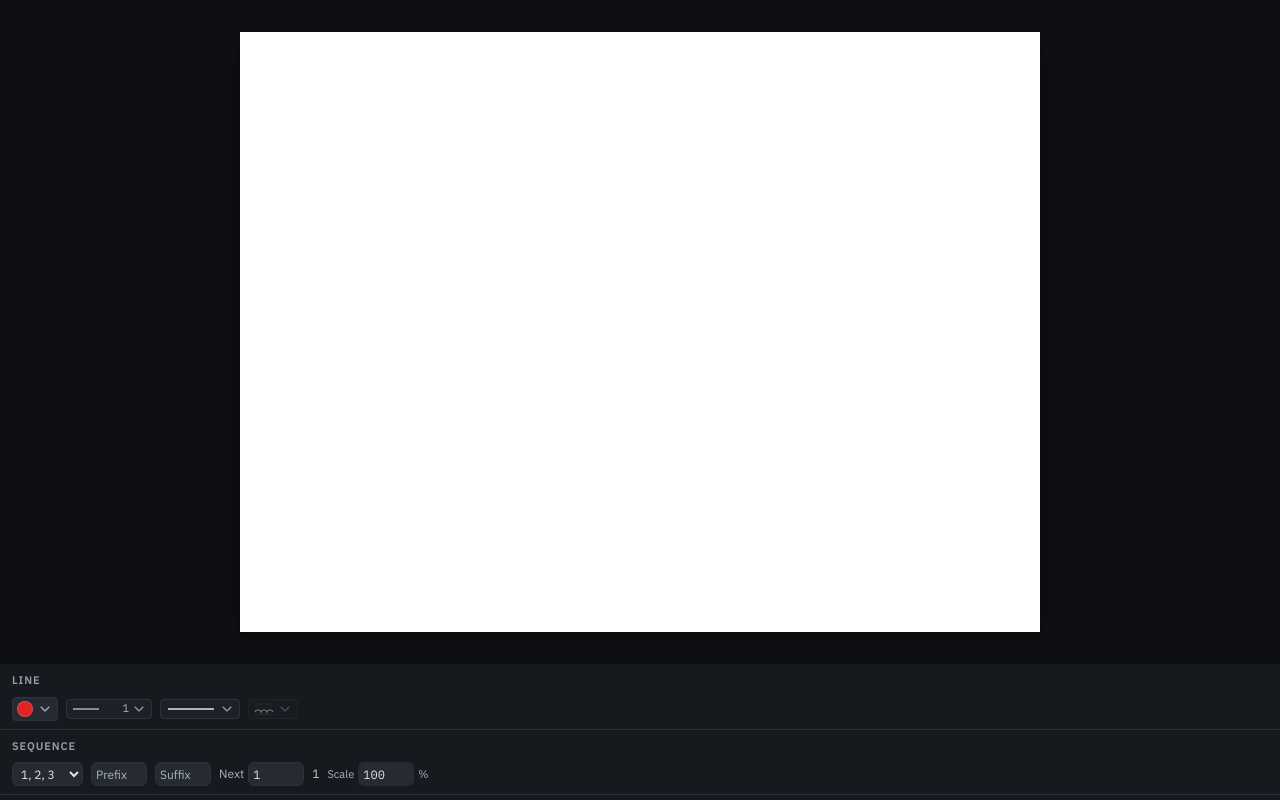
it: Secuencias numeradas de marcadores (ADR-0094) › la barra define formato, prefijo, sufijo y siguiente número, y el marcador los usa
Step 1. Select "A, B, C" in the dropdown with test id "ribbon-sequence-format" → x=48, y=774, box [12,762,83,786]
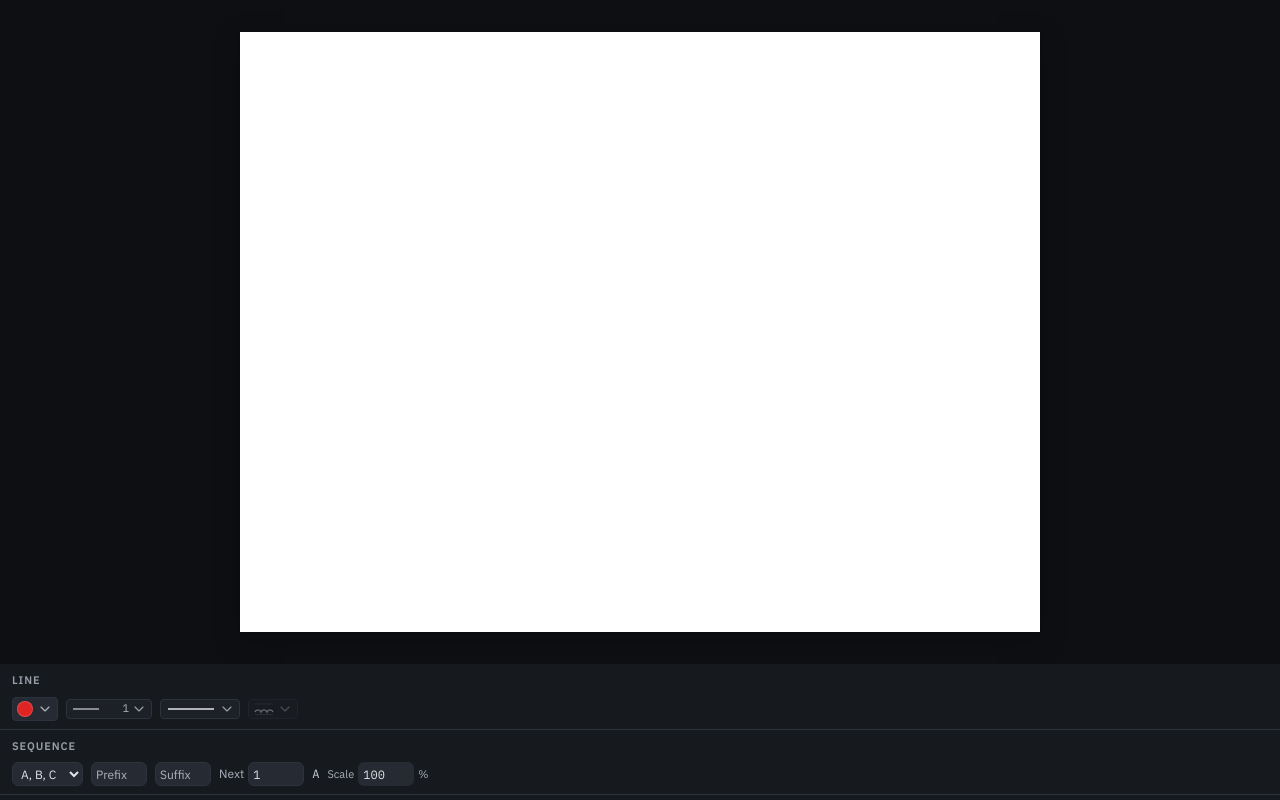
Step 2. Type "P-" into the field with test id "ribbon-sequence-prefix" → x=119, y=774, box [91,762,147,786]
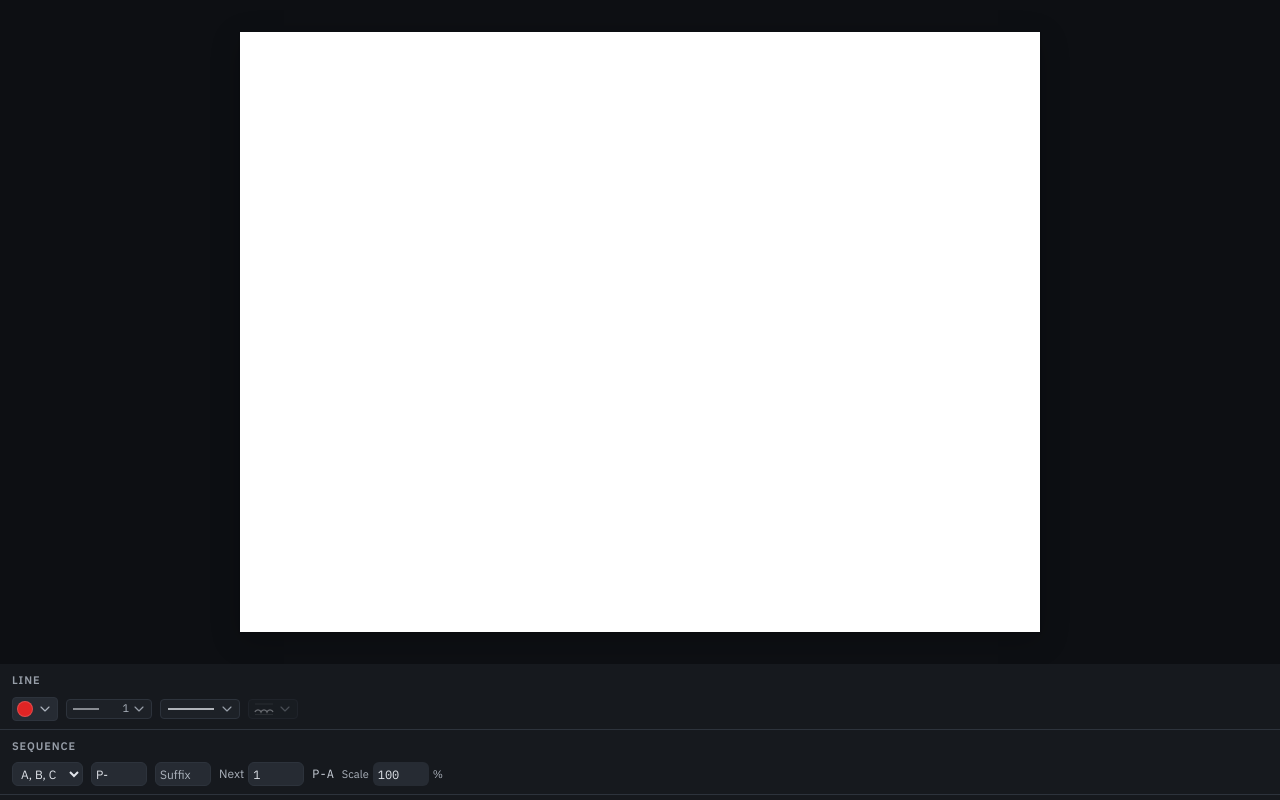
Step 3. Replace the text in the number field with test id "ribbon-sequence-next" with "3" → x=276, y=774, box [248,762,304,786]
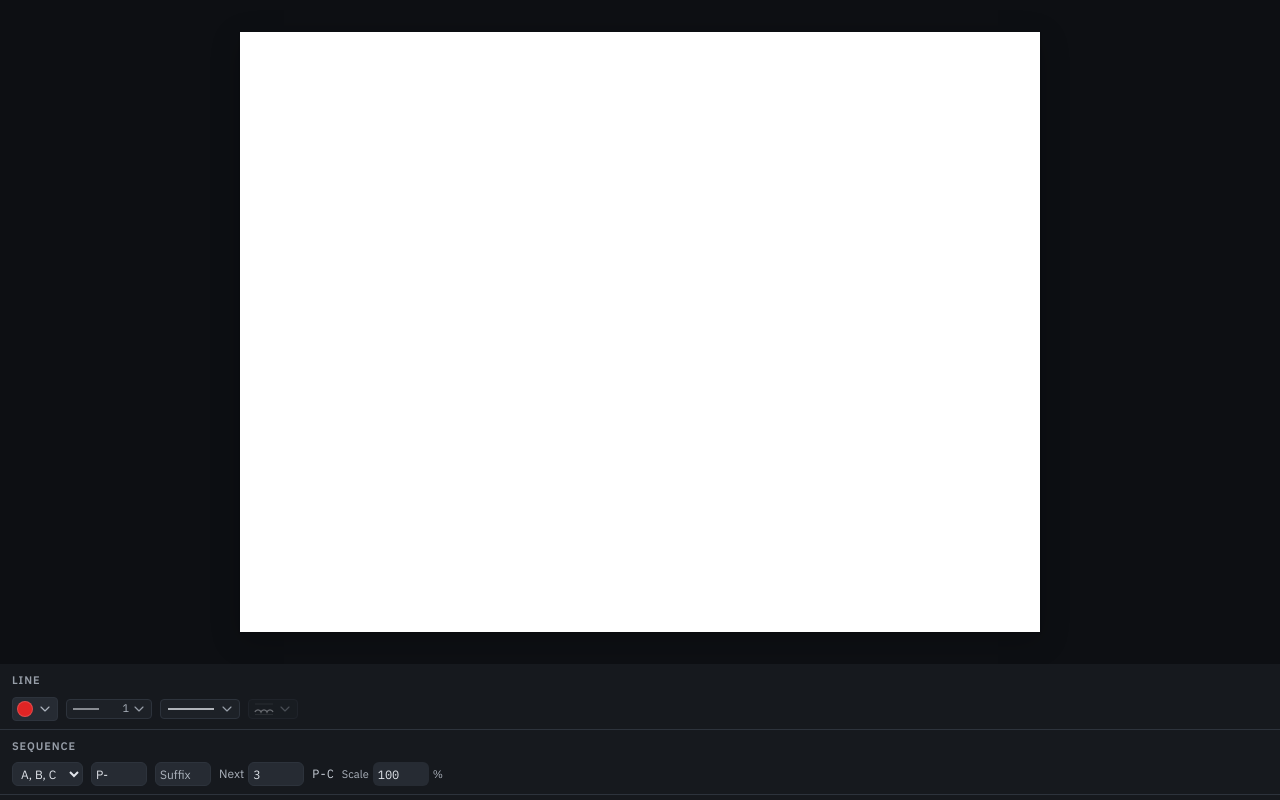
Now the text with test id "ribbon-sequence-preview" reads "P-C", box [312,766,334,781]
Step 4. Press the mouse on the icon with test id "markup-overlay-svg" → x=640, y=332, box [240,32,1040,632]
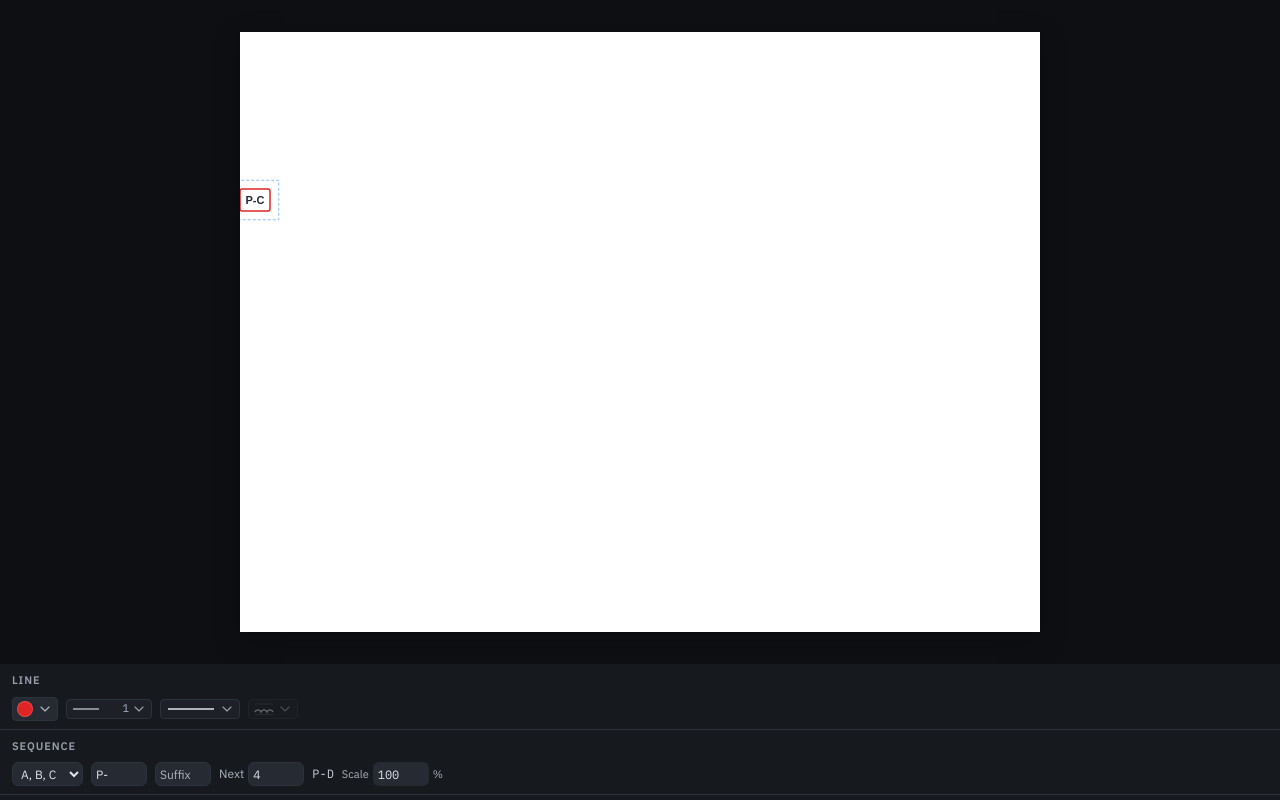
Step 5. Press the mouse on the icon with test id "markup-overlay-svg" → x=640, y=332, box [240,32,1040,632]
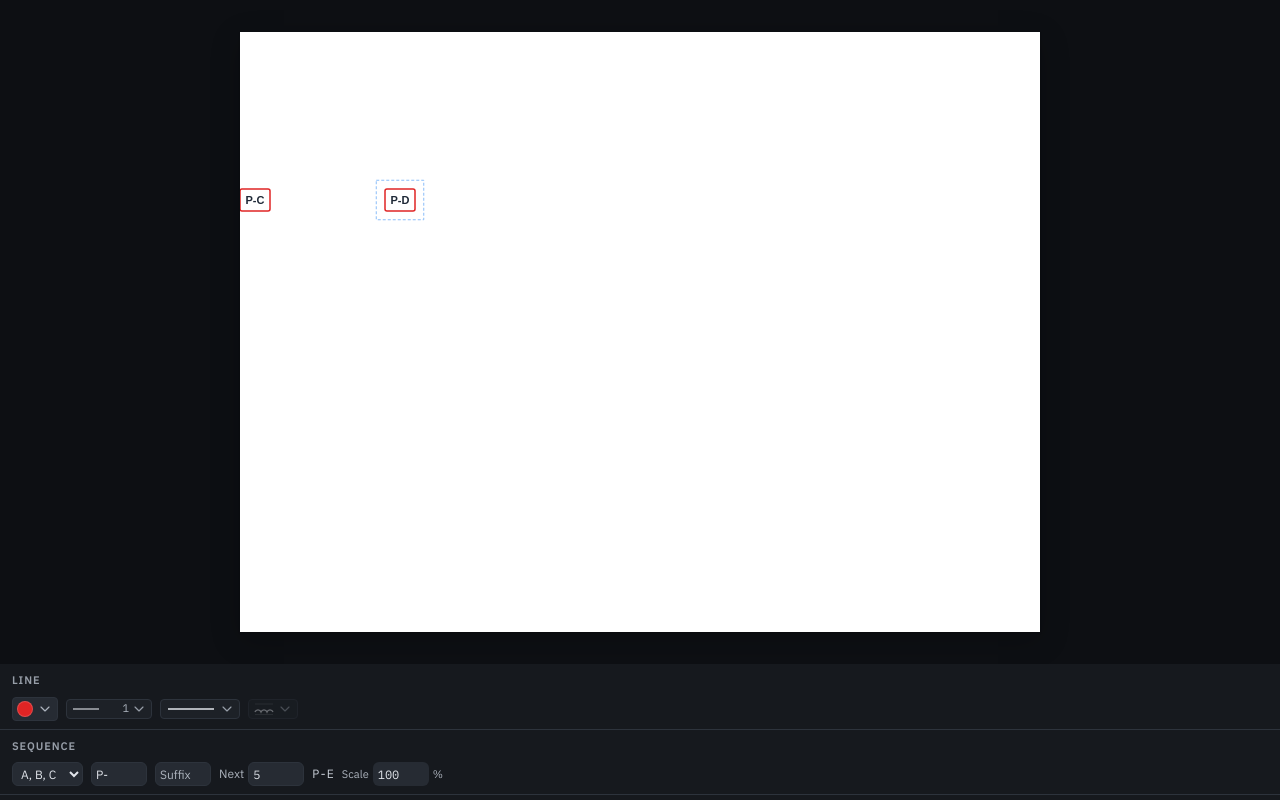
Step 6. Replace the text in the number field with test id "ribbon-sequence-next" with "1" → x=276, y=774, box [248,762,304,786]
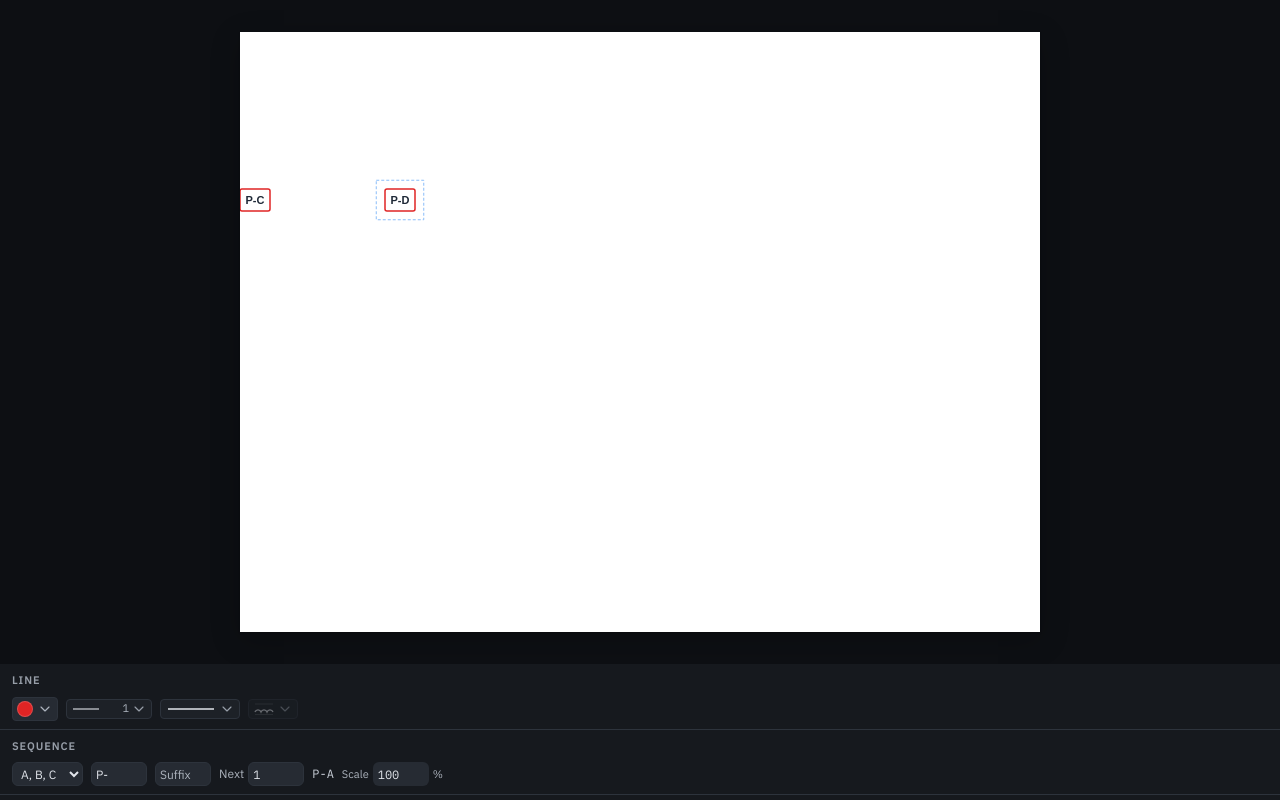
Now the text with test id "ribbon-sequence-preview" reads "P-A", box [312,766,334,781]
